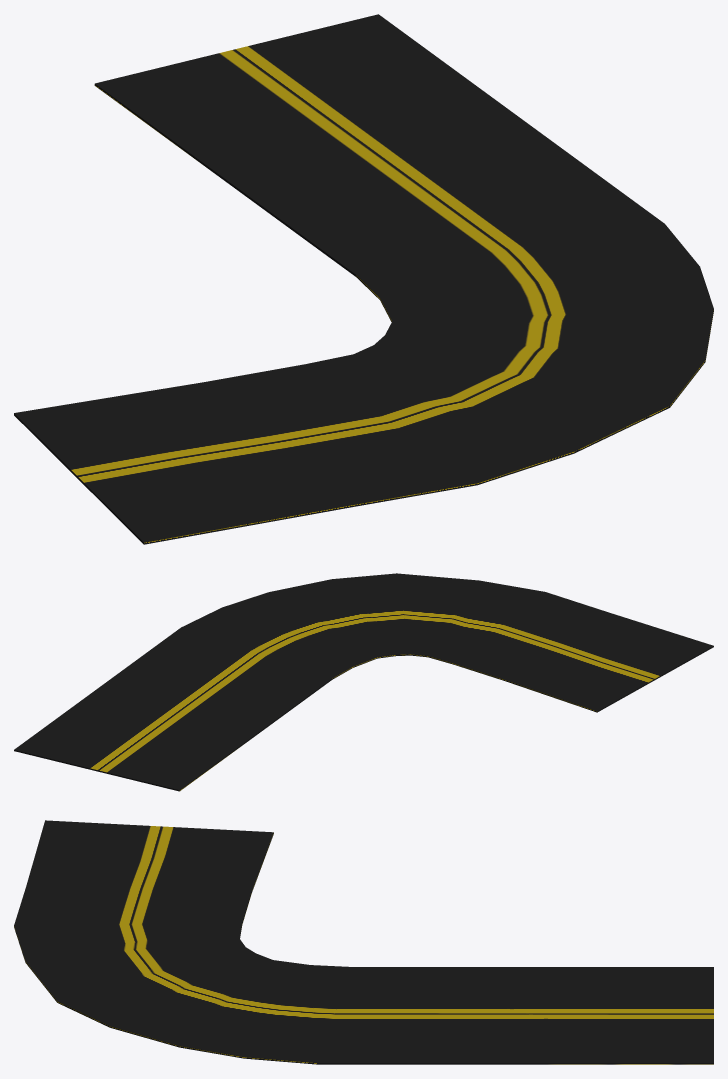
Rendered from mainroad1.fbx.
The picture shows the model from 3 angles, top to bottom: view 1: azimuth 30°, elevation 25°; view 2: azimuth 150°, elevation 25°; view 3: azimuth 270°, elevation 25°; orthographic projection. The views are drawn at different scales.
Parts seen in each view (by area): view 1: pCube42; view 2: pCube42; view 3: pCube42.
Part boxes in pixels (left/top/right/bottom): pCube42: left=14, top=14, right=713, bottom=544; pCube42: left=14, top=573, right=713, bottom=791; pCube42: left=14, top=820, right=713, bottom=1064.
Bounding box in the file's own units: 26.82 × 0.0815 × 32.71.
Materials: 1 (1 with a texture image).
